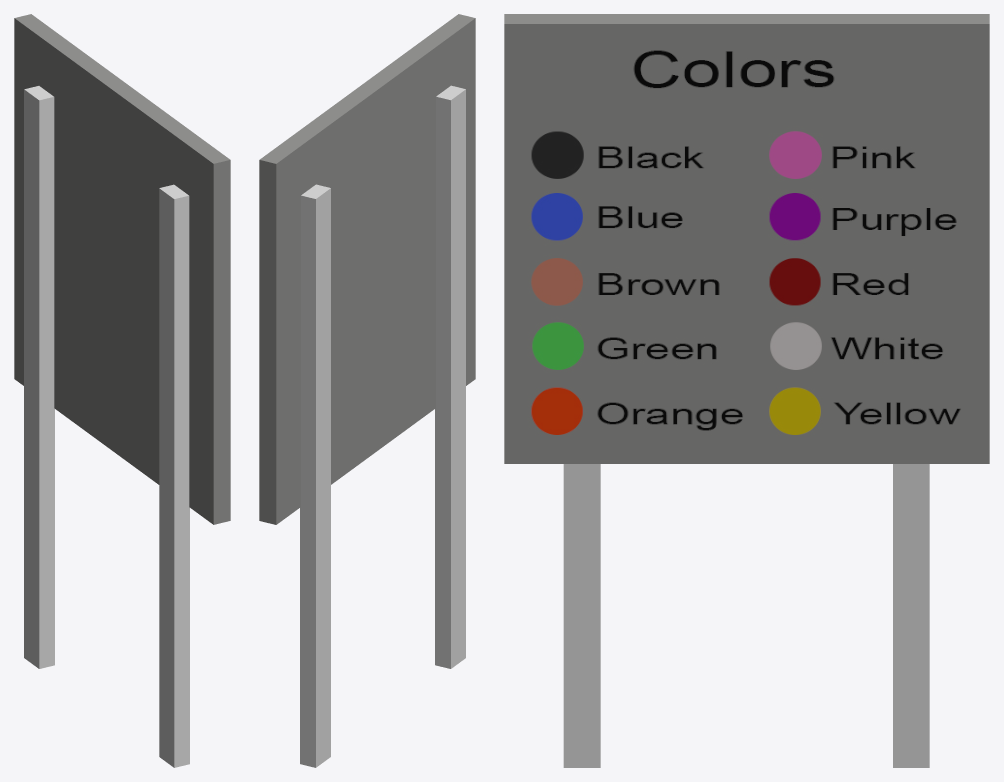
Rendered from placas 1.fbx.
3 views of the same model, side by side, from view 1: azimuth 30°, elevation 25°; view 2: azimuth 150°, elevation 25°; view 3: azimuth 270°, elevation 25° (orthographic). The views are drawn at different scales.
Visible parts, largest first — view 1: Cube; view 2: Cube; view 3: Cube.
Part boxes in pixels (box(x1,y1,x2,y2)): Cube: box(14, 14, 230, 767); Cube: box(259, 14, 475, 767); Cube: box(504, 14, 989, 767).
Size of the model in its own units: 18.44 by 343 by 200.
